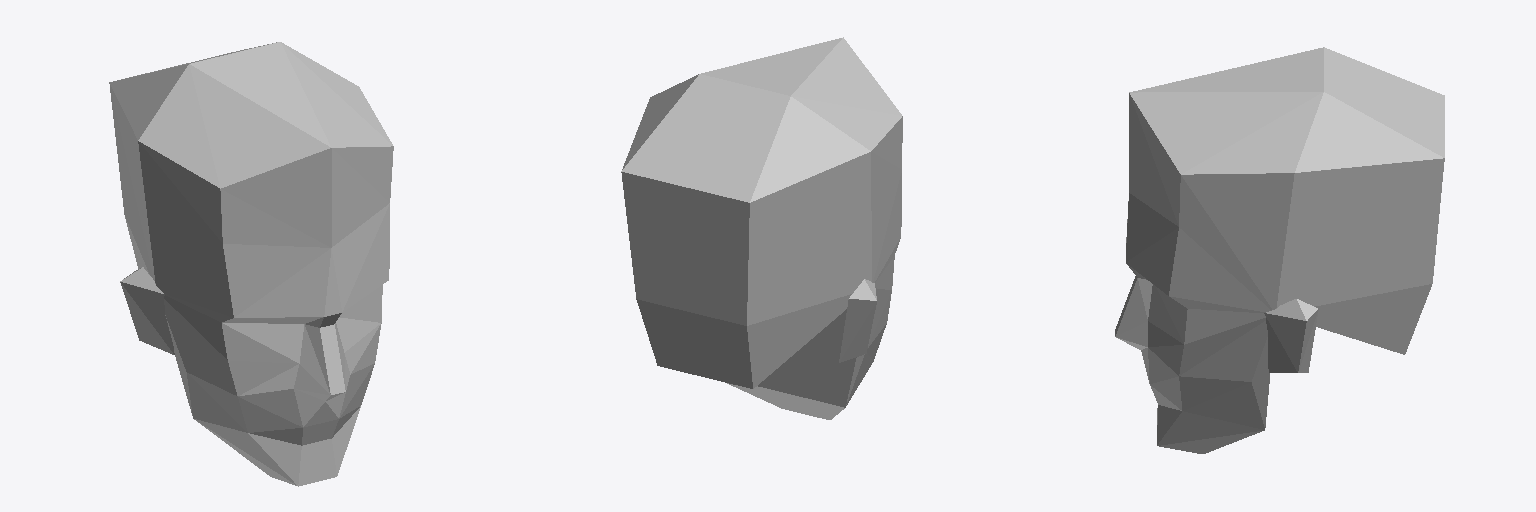
The picture shows the model from 3 angles: view 1: azimuth 30°, elevation 25°; view 2: azimuth 150°, elevation 25°; view 3: azimuth 270°, elevation 25°; orthographic projection.
Visible parts, largest first — view 1: Head_Front, Head_Top, Head_Sides, Ear_Fronts; view 2: Head_Top, Head_Sides, Head_Back, Neck_Inner, Ear_Sides; view 3: Head_Sides, Head_Top, Head_Front, Ear_Fronts, Ear_Sides.
Boxes of the visible parts, <box> form: Head_Front: <box>194,146,393,486</box>; Head_Top: <box>109,42,392,188</box>; Head_Sides: <box>109,83,247,432</box>; Ear_Fronts: <box>120,282,174,354</box>; Head_Top: <box>621,37,901,202</box>; Head_Sides: <box>747,116,902,405</box>; Head_Back: <box>621,172,752,388</box>; Neck_Inner: <box>727,309,856,419</box>; Ear_Sides: <box>839,279,876,362</box>; Head_Sides: <box>1169,158,1444,429</box>; Head_Top: <box>1129,47,1444,174</box>; Head_Front: <box>1115,93,1264,453</box>; Ear_Fronts: <box>1264,313,1306,372</box>; Ear_Sides: <box>1266,299,1318,372</box>.
Bounding box in the file's own units: 0.1153 × 0.168 × 0.1343.